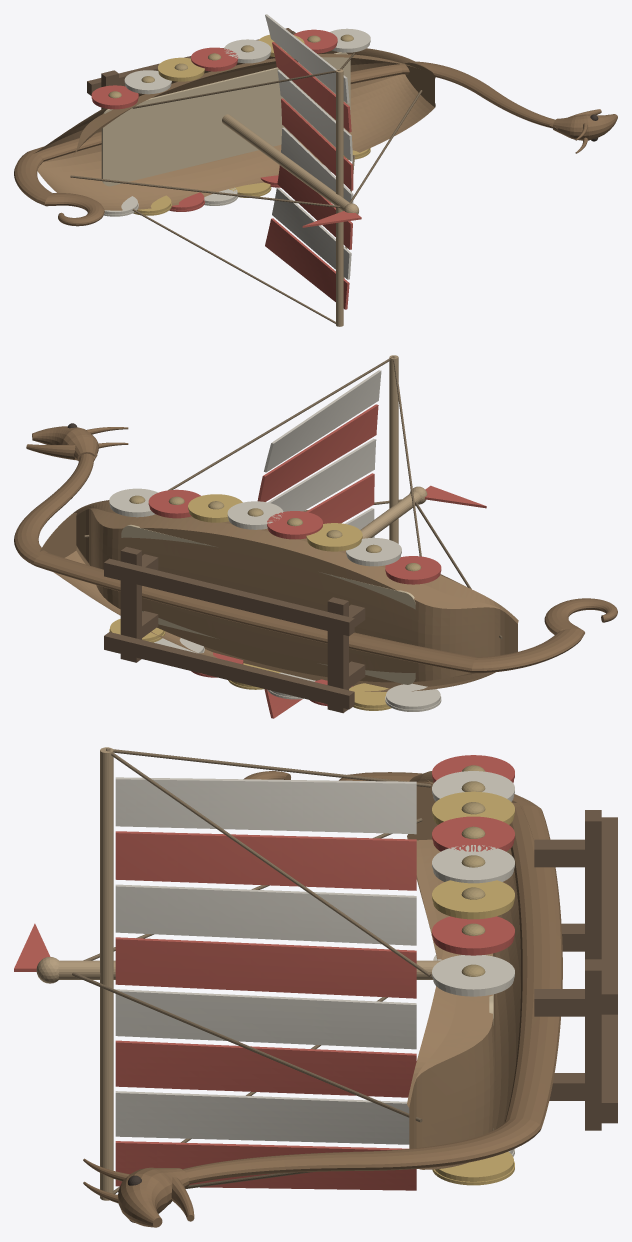
Rendered from viking_sushi_boat.glb.
3 views of the same model, one above another, from view 1: azimuth 30°, elevation 25°; view 2: azimuth 150°, elevation 25°; view 3: azimuth 270°, elevation 25° (orthographic). The views are drawn at different scales.
Visible parts, largest first — view 1: part_000, part_009, part_001, part_061, part_062, part_060, part_065, part_068, part_066, part_058, part_067, part_063 (+13 smaller); view 2: part_000, part_001, part_077, part_076, part_067, part_068, part_066, part_009, part_065, part_081, part_078, part_060 (+16 smaller); view 3: part_001, part_000, part_068, part_067, part_066, part_065, part_064, part_063, part_062, part_061, part_060, part_076 (+22 smaller).
Part boxes in pixels (left/top/right/bottom): part_000: left=34, top=48, right=435, bottom=210; part_009: left=101, top=52, right=350, bottom=186; part_001: left=14, top=61, right=555, bottom=226; part_061: left=265, top=218, right=349, bottom=309; part_062: left=272, top=187, right=351, bottom=279; part_060: left=336, top=69, right=343, bottom=326; part_065: left=281, top=98, right=353, bottom=190; part_068: left=265, top=14, right=349, bottom=103; part_066: left=277, top=70, right=352, bottom=161; part_058: left=222, top=114, right=349, bottom=210; part_067: left=272, top=42, right=351, bottom=132; part_063: left=277, top=165, right=352, bottom=249; part_000: left=40, top=500, right=518, bottom=691; part_001: left=14, top=453, right=617, bottom=673; part_077: left=104, top=632, right=354, bottom=709; part_076: left=104, top=558, right=354, bottom=635; part_067: left=257, top=404, right=378, bottom=501; part_068: left=264, top=370, right=381, bottom=472; part_066: left=268, top=438, right=376, bottom=511; part_009: left=121, top=524, right=415, bottom=684; part_065: left=306, top=473, right=374, bottom=523; part_081: left=327, top=597, right=348, bottom=713; part_078: left=120, top=547, right=141, bottom=662; part_060: left=389, top=355, right=398, bottom=543; part_001: left=182, top=771, right=562, bottom=1183; part_000: left=407, top=771, right=533, bottom=1169; part_068: left=115, top=777, right=416, bottom=834; part_067: left=115, top=831, right=416, bottom=890; part_066: left=115, top=884, right=416, bottom=945; part_065: left=115, top=937, right=416, bottom=998; part_064: left=115, top=989, right=416, bottom=1049; part_063: left=115, top=1040, right=416, bottom=1097; part_062: left=115, top=1091, right=409, bottom=1144; part_061: left=115, top=1141, right=416, bottom=1190; part_060: left=100, top=747, right=113, bottom=1200; part_076: left=601, top=817, right=617, bottom=1014.
Bounding box in the file's own units: 711 × 332 × 404.
